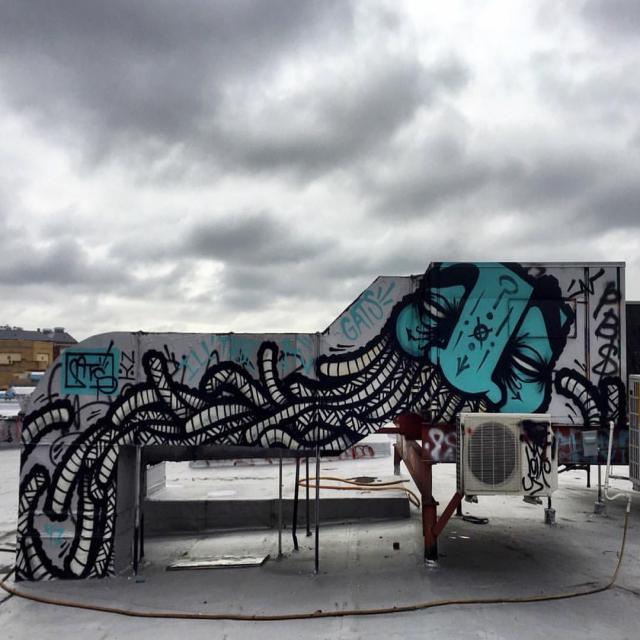-: (14, 265, 624, 586), (516, 420, 556, 496), (593, 284, 620, 396), (59, 346, 118, 396)
